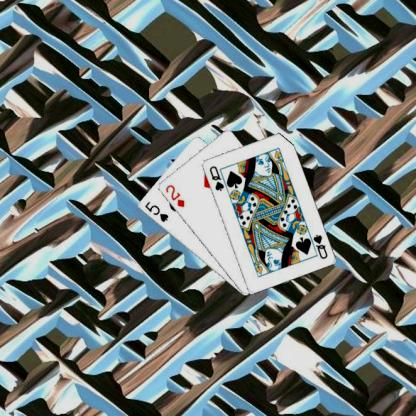2D: (163, 182, 185, 209)
5S: (142, 198, 170, 223)
QS: (206, 163, 225, 192), (310, 231, 328, 260)
